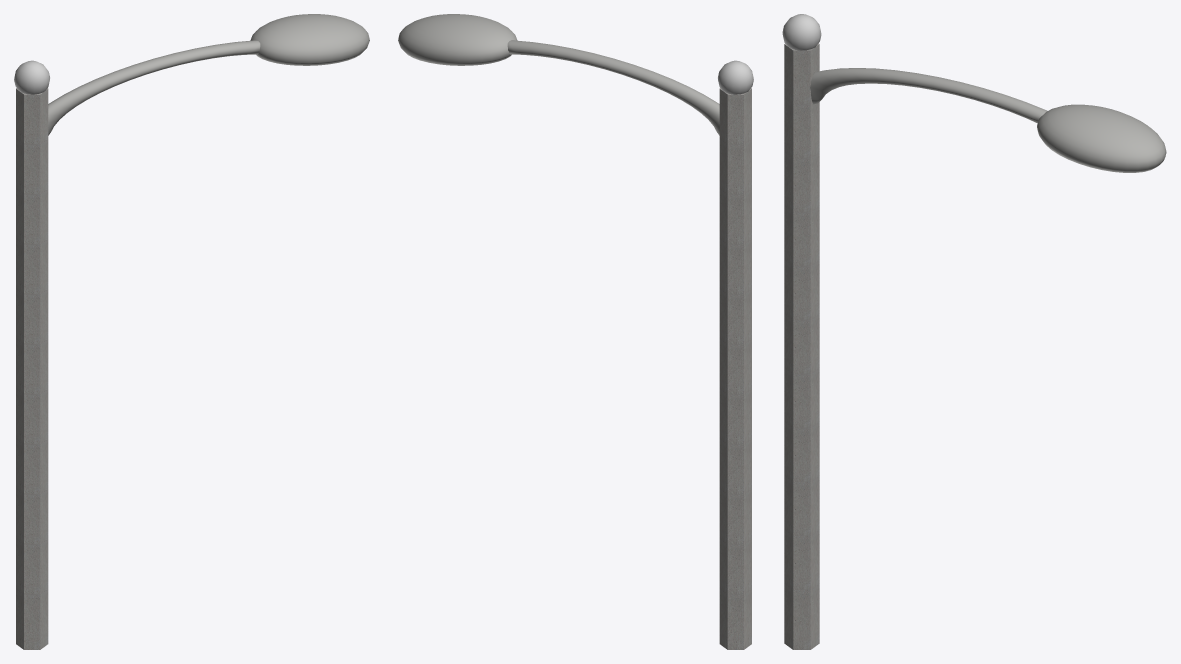
Rendered from lamp.obj.
The picture shows the model from 3 angles, left to right: view 1: azimuth 30°, elevation 25°; view 2: azimuth 150°, elevation 25°; view 3: azimuth 330°, elevation 25°; orthographic projection. The views are drawn at different scales.
Visible parts, largest first — view 1: LightPart_Sphere; view 2: LightPart_Sphere; view 3: LightPart_Sphere.
Part boxes in pixels (left/top/right/bottom): LightPart_Sphere: left=14, top=14, right=369, bottom=649; LightPart_Sphere: left=398, top=14, right=753, bottom=649; LightPart_Sphere: left=782, top=14, right=1166, bottom=649.
Size of the model in its own units: 1.12 by 1.78 by 0.2451.
Materials: 4 (2 with a texture image).
